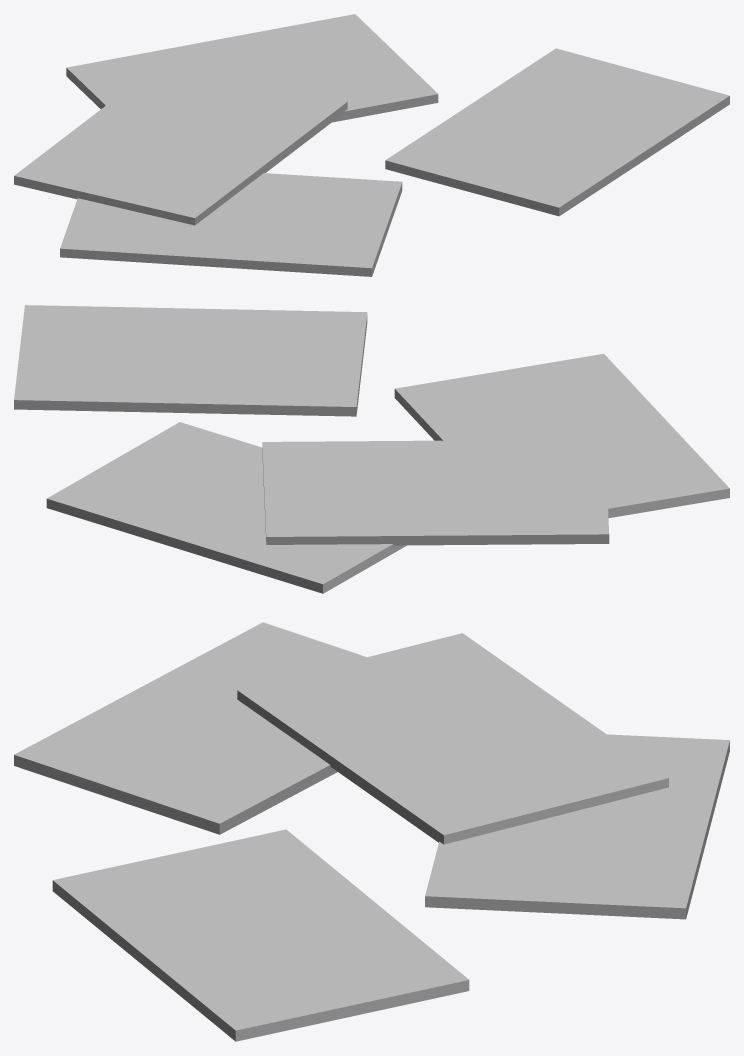
File: SO_Papers_02.fbx
The picture shows the model from 3 angles, top to bottom: view 1: azimuth 30°, elevation 25°; view 2: azimuth 150°, elevation 25°; view 3: azimuth 270°, elevation 25°; orthographic projection. The views are drawn at different scales.
Visible parts, largest first — view 1: SO_Papers_02; view 2: SO_Papers_02; view 3: SO_Papers_02.
Boxes of the visible parts, box(x1,y1,x2,y2) form: SO_Papers_02: box(14, 14, 729, 276); SO_Papers_02: box(14, 305, 729, 593); SO_Papers_02: box(14, 622, 729, 1041).
Size of the model in its own units: 1.75 by 0.0409 by 1.3.
